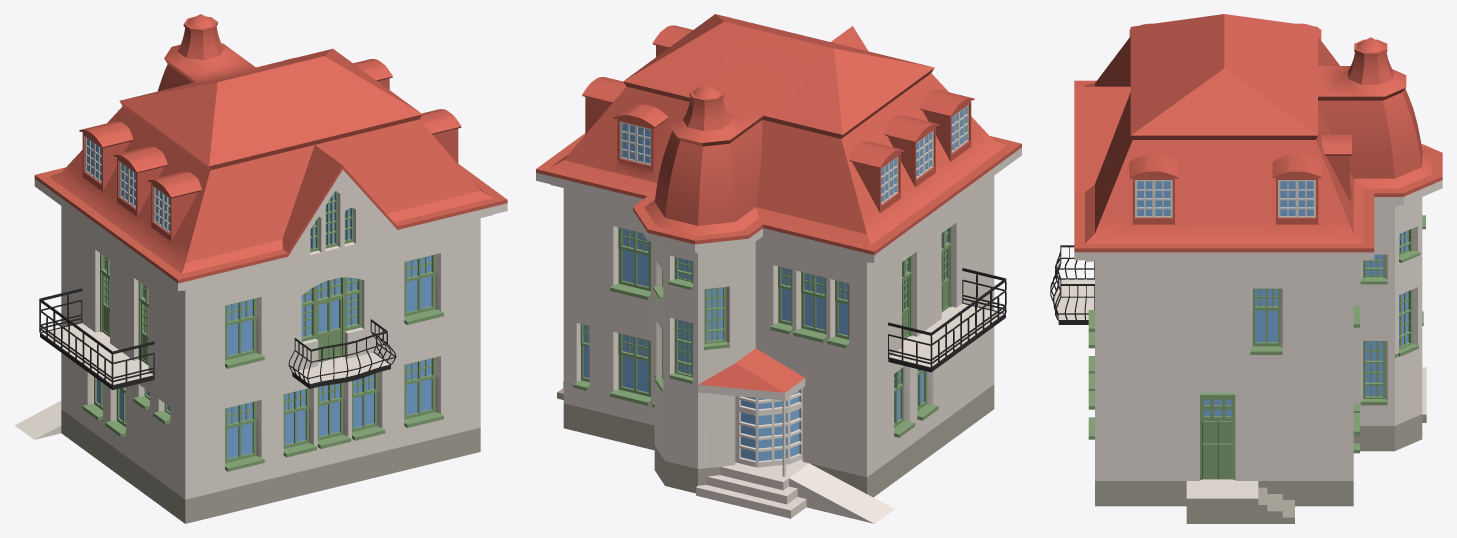
The picture shows the model from 3 angles, left to right: view 1: azimuth 30°, elevation 25°; view 2: azimuth 150°, elevation 25°; view 3: azimuth 270°, elevation 25°; orthographic projection. The views are drawn at different scales.
Visible parts, largest first — view 1: Vita_Villan_Mesh; view 2: Vita_Villan_Mesh; view 3: Vita_Villan_Mesh.
Boxes of the visible parts, bbox=[...] form: Vita_Villan_Mesh: bbox=[15, 14, 507, 523]; Vita_Villan_Mesh: bbox=[536, 14, 1021, 523]; Vita_Villan_Mesh: bbox=[1050, 14, 1442, 523].
Bounding box in the file's own units: 7.09 × 6.87 × 6.2.
